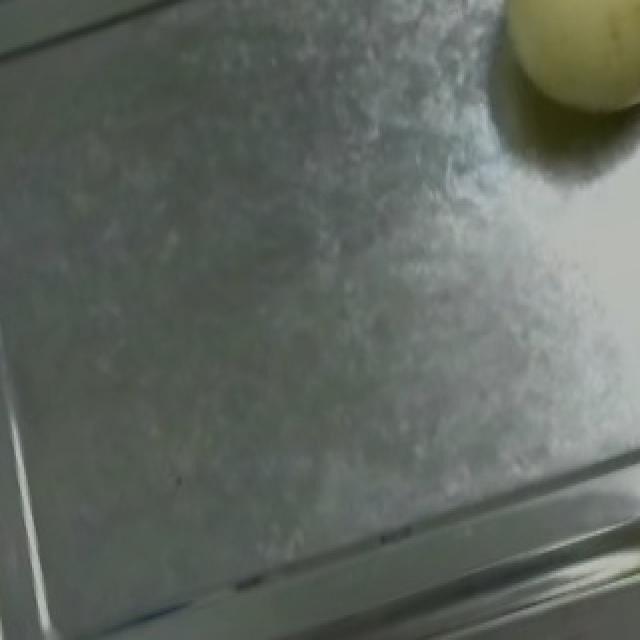Fruit: (462, 0, 640, 146)
